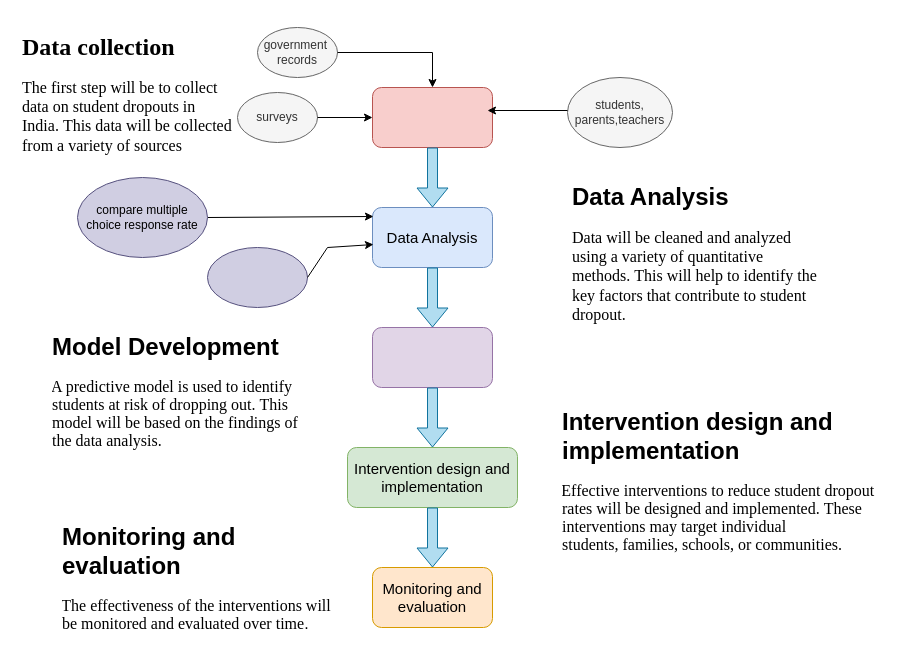
Some shapes in this 904 by 664 pixel diagram are drawn without their labels. The shapes that lost their labels are listed below. From the top down, each one's box as (x1, y1, x2, y2) in pixels, then its label:
(372, 86, 492, 148): Data Collection
(206, 246, 308, 308): Mean, Median, Mode
(372, 326, 492, 388): Model Development
